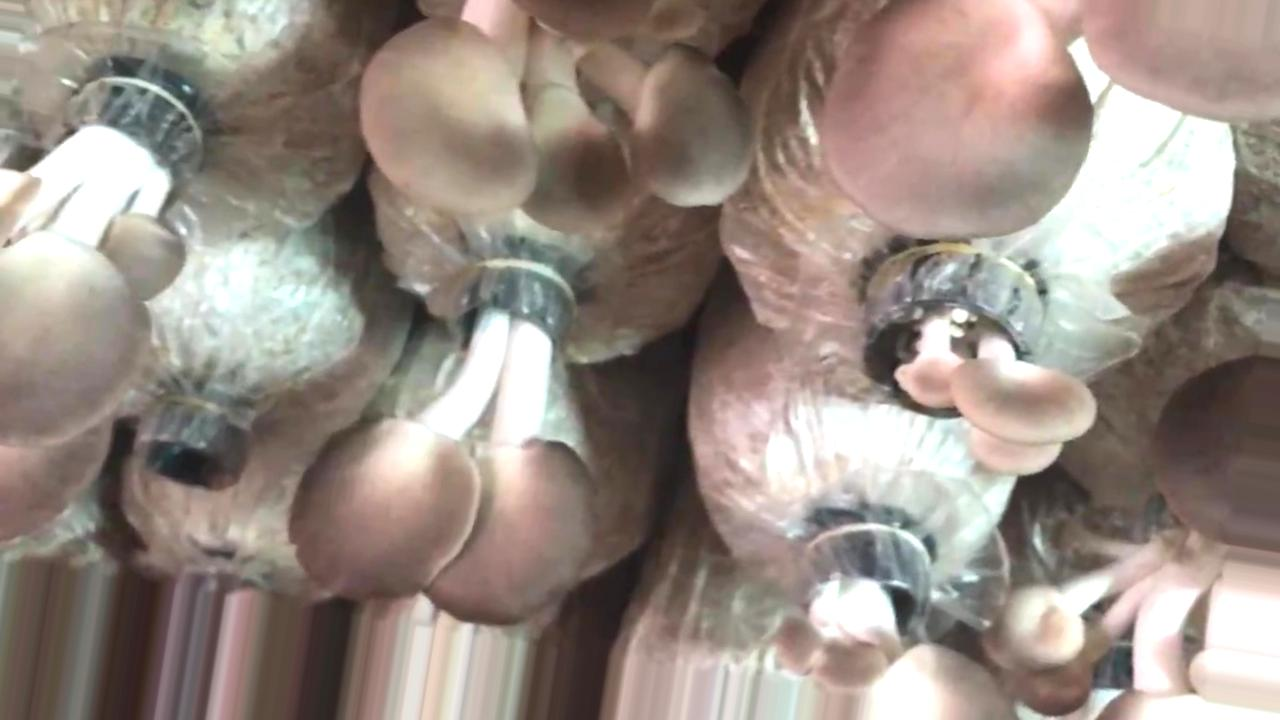nam: (293, 263, 609, 630), (823, 1, 1279, 237), (1, 57, 188, 545), (367, 1, 753, 232), (984, 525, 1280, 719), (853, 252, 1098, 475), (777, 527, 1013, 720), (1150, 355, 1280, 549)
